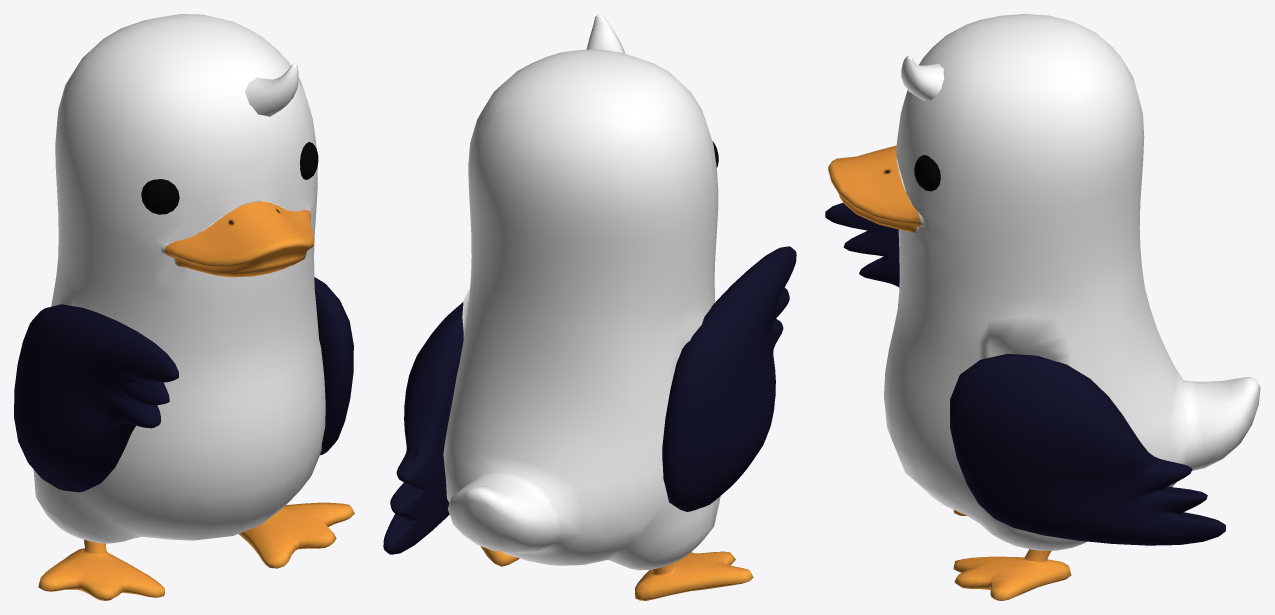
File: duck_player_split_pose.glb
3 renders of one model, left to right at view 1: azimuth 30°, elevation 25°; view 2: azimuth 150°, elevation 25°; view 3: azimuth 270°, elevation 25°, orthographic. The views are drawn at different scales.
Visible parts, largest first — view 1: Body, Arm.R, Arm.L; view 2: Body, Arm.R, Arm.L; view 3: Body, Arm.L, Arm.R.
Part boxes in pixels (x1,y1,x2,y2): Body: (33,14,354,600); Arm.R: (14,304,178,492); Arm.L: (314,277,353,455); Body: (443,14,753,600); Arm.R: (662,246,796,511); Arm.L: (383,302,463,554); Body: (828,14,1260,600); Arm.L: (950,353,1225,545); Arm.R: (825,203,899,287).
Size of the model in its own units: 0.7185 by 1.12 by 0.8641.
Materials: 2 (1 with a texture image).
